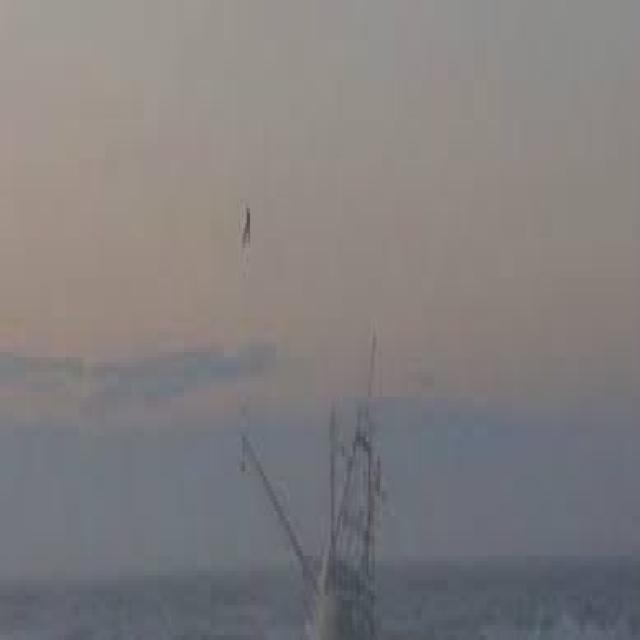fishing boat: (234, 275, 388, 640)
